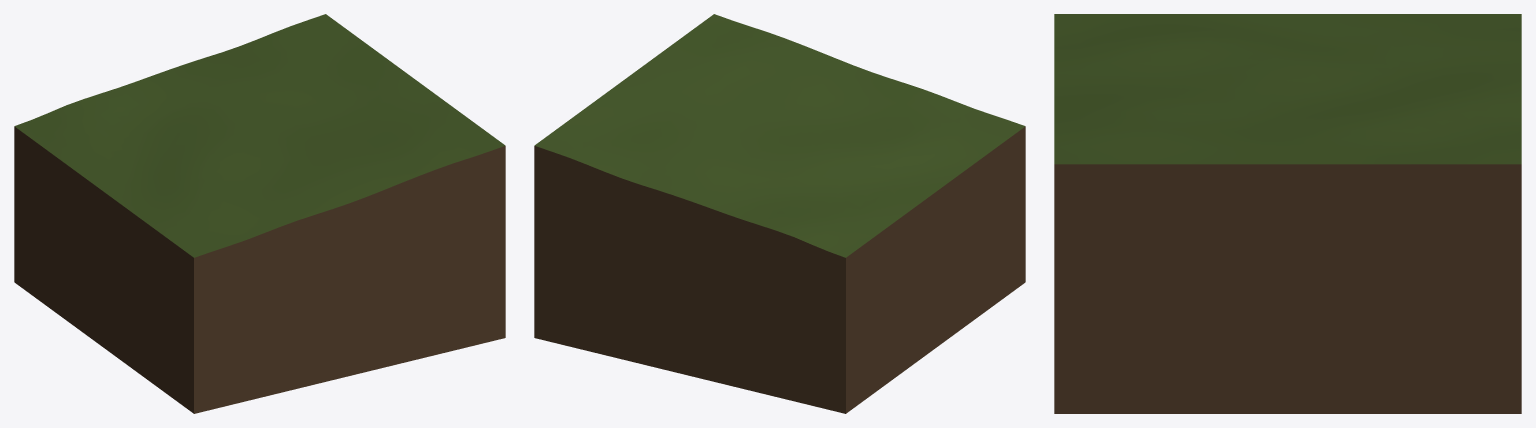
The picture shows the model from 3 angles, left to right: view 1: azimuth 30°, elevation 25°; view 2: azimuth 150°, elevation 25°; view 3: azimuth 270°, elevation 25°; orthographic projection. The views are drawn at different scales.
Visible parts, largest first — view 1: b0go; view 2: b0go; view 3: b0go.
Part boxes in pixels (left/top/right/bottom): b0go: left=14, top=14, right=505, bottom=413; b0go: left=534, top=14, right=1025, bottom=413; b0go: left=1054, top=14, right=1521, bottom=413.
Bounding box in the file's own units: 9 × 5.31 × 9.
